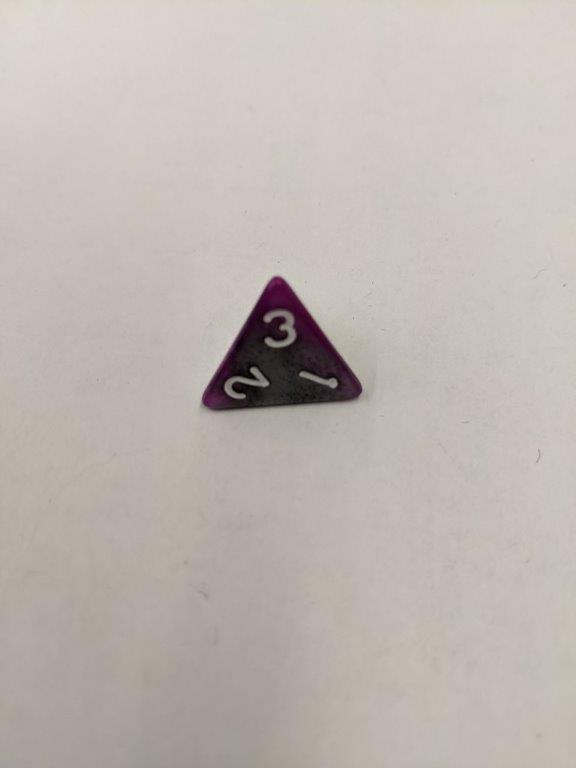d4-3: (195, 273, 366, 417)
